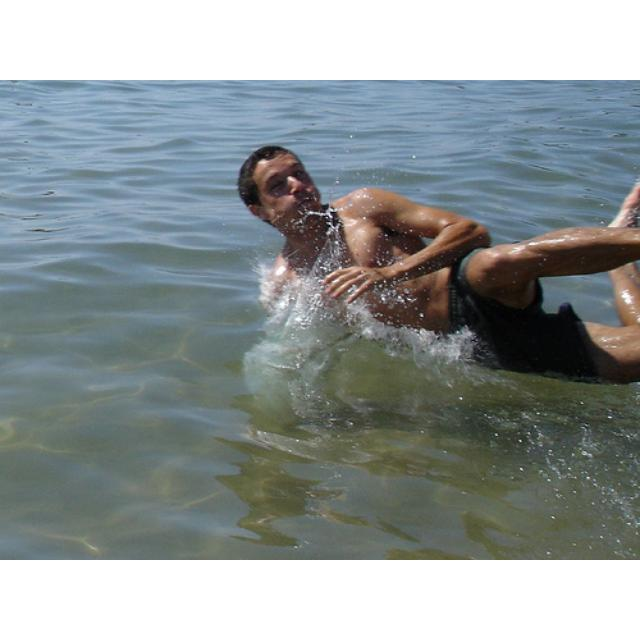human: (238, 133, 639, 395)
